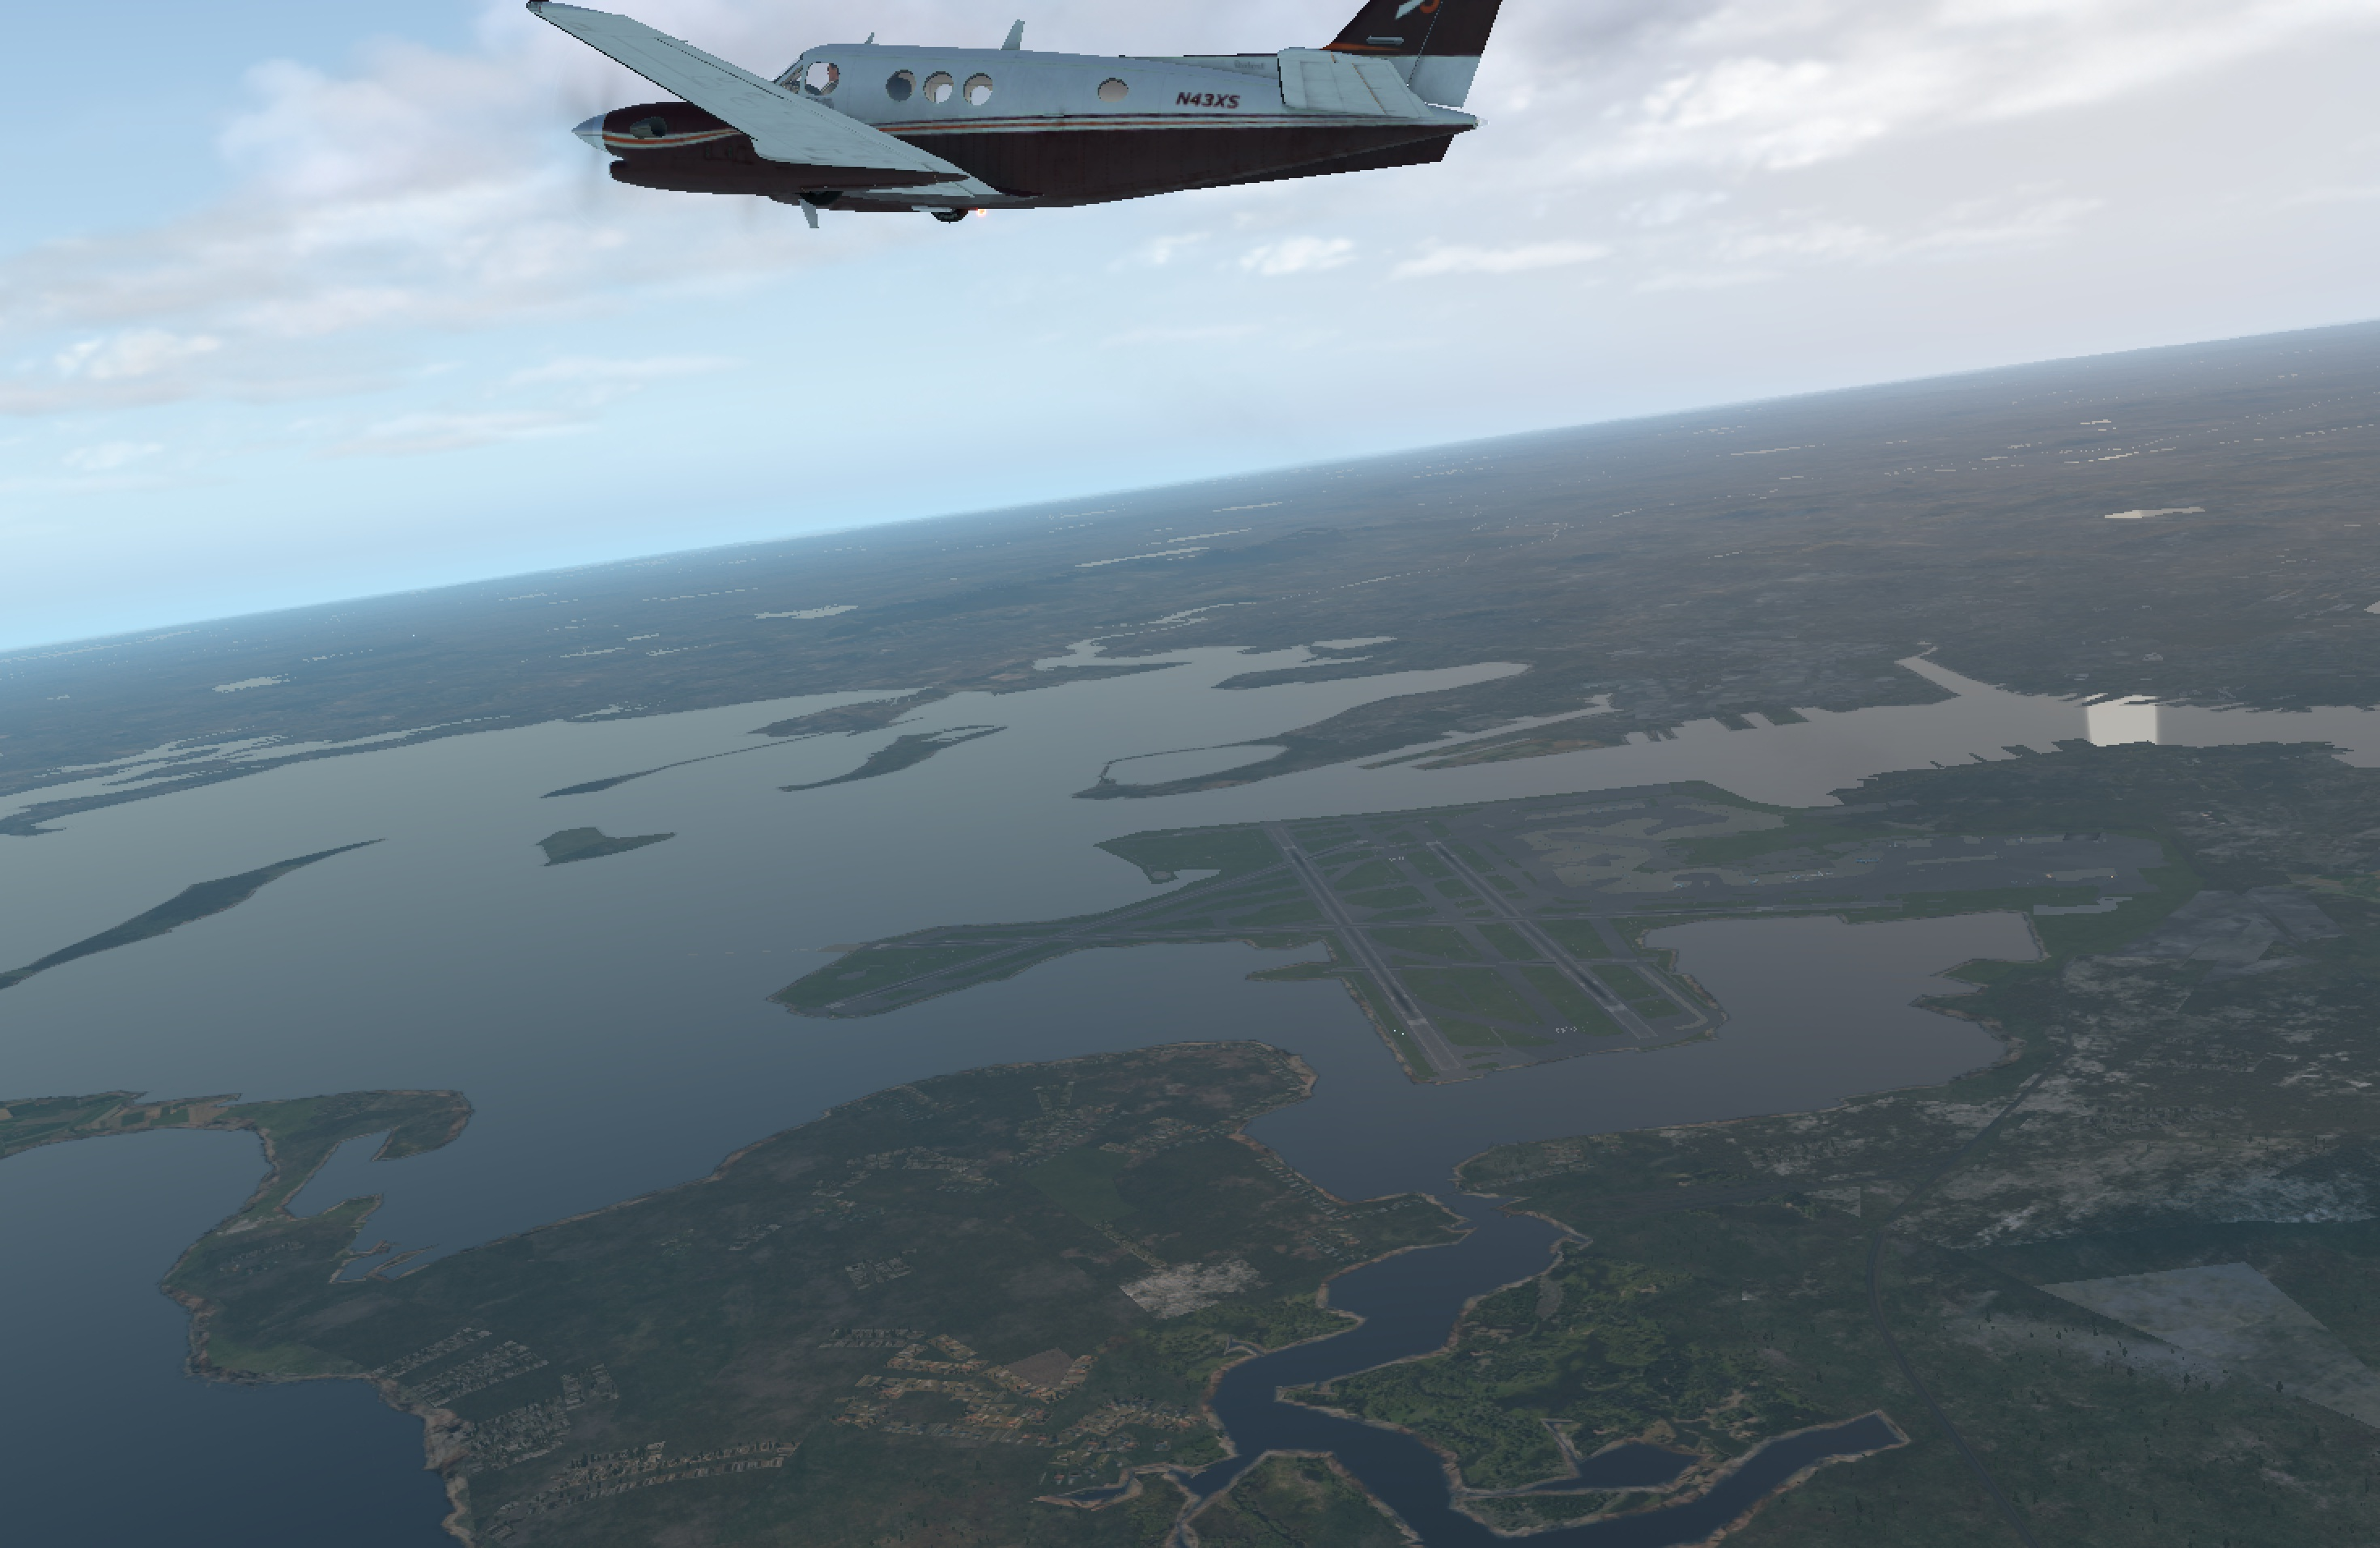aircraft: (264, 0, 1511, 427)
